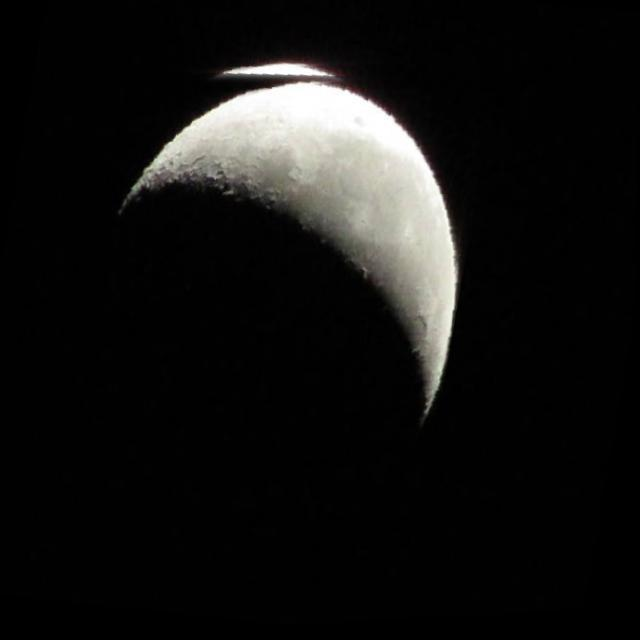moon: (34, 23, 498, 586)
